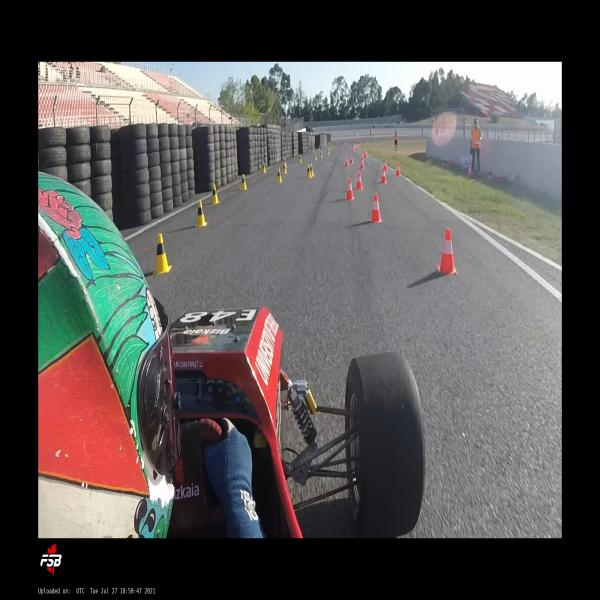orange_cone: (437, 228, 457, 274), (368, 194, 383, 222), (345, 178, 355, 200), (355, 171, 364, 190), (380, 167, 387, 184), (395, 162, 401, 176), (360, 158, 365, 170), (383, 159, 388, 171), (345, 156, 349, 167), (360, 152, 364, 161), (350, 155, 353, 164)
yellow_cone: (153, 232, 172, 274), (195, 200, 208, 227), (211, 184, 220, 205), (241, 174, 248, 190), (276, 168, 283, 183), (306, 164, 312, 178), (309, 164, 315, 177), (282, 163, 288, 175), (262, 162, 267, 173), (298, 154, 303, 164), (284, 158, 288, 167), (314, 153, 317, 162), (320, 152, 323, 159)
